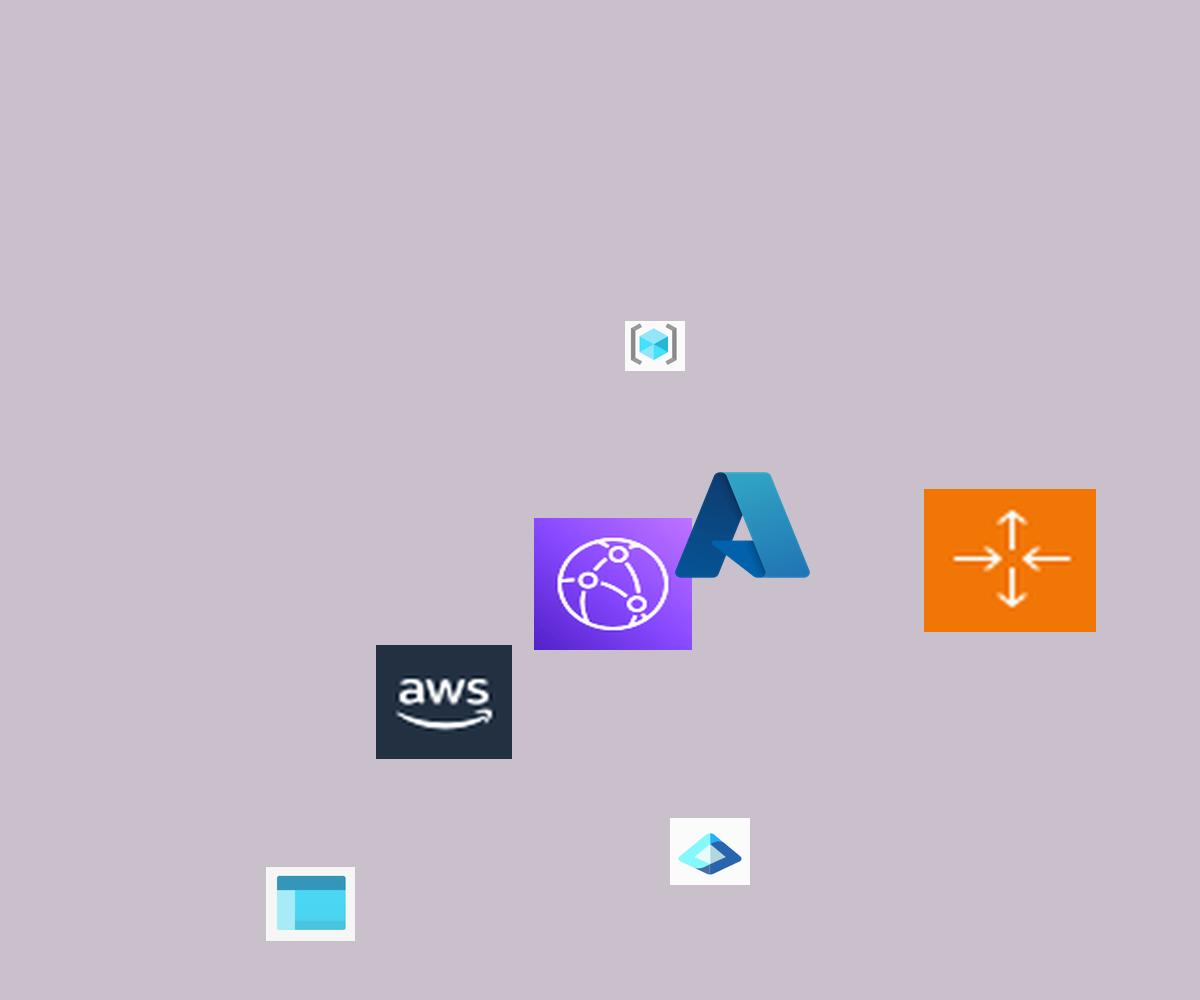AWS-Cloud-logo: (376, 645, 512, 759)
AWS-CloudFront: (534, 518, 692, 650)
AWS-Scaling-group: (924, 489, 1096, 632)
Azure_management-portal: (266, 867, 355, 941)
Azure_microsoft_entra: (670, 818, 750, 885)
Azure_resource_group: (625, 321, 685, 371)
Azure_services: (669, 464, 816, 586)
